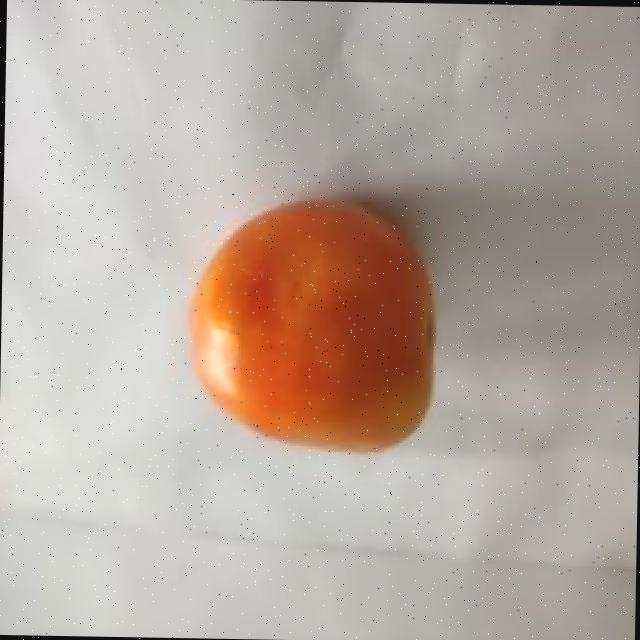Ripe: (187, 184, 440, 458)
